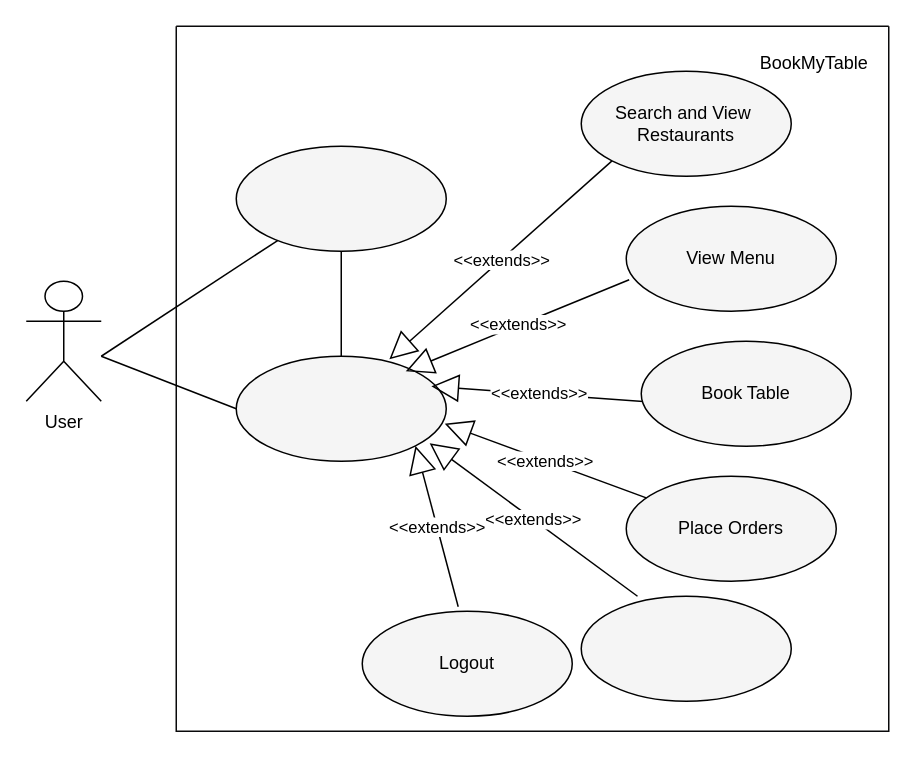
The diagram is 915 pixels wide and 758 high, and some of its shapes have lost their labels. Here are the shapes that lost their labels. From the top down, the centre of each, then its label:
the point at 340,198: Create Account
the point at 340,408: Login
the point at 685,648: Give Review
